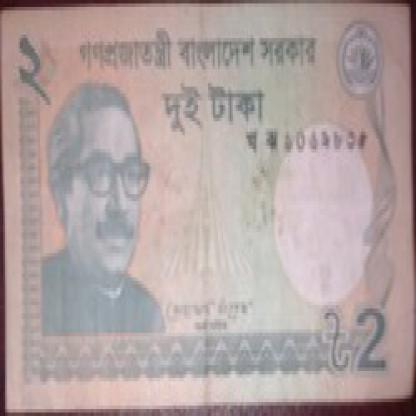two taka: (340, 302, 402, 402), (12, 31, 66, 128)
